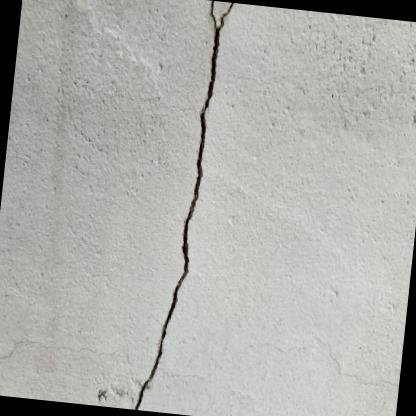crack: (132, 0, 234, 410)
